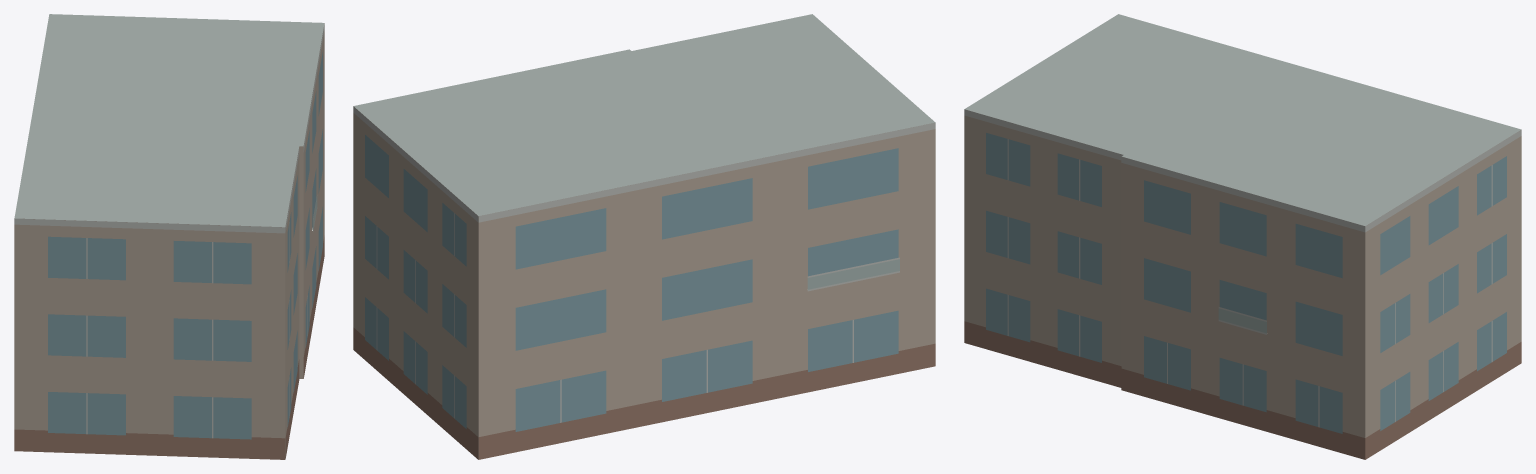
The model's file is survey-upis-32827279.glb.
3 views of the same model, side by side, from view 1: azimuth 30°, elevation 25°; view 2: azimuth 150°, elevation 25°; view 3: azimuth 270°, elevation 25° (orthographic). The views are drawn at different scales.
Visible parts, largest first — view 1: survey-upis-32827279.tmp; view 2: survey-upis-32827279.tmp; view 3: survey-upis-32827279.tmp.
Boxes of the visible parts, x1,y1,x2,y2 form: survey-upis-32827279.tmp: [14, 14, 324, 459]; survey-upis-32827279.tmp: [353, 14, 935, 459]; survey-upis-32827279.tmp: [964, 14, 1521, 459].
Bounding box in the file's own units: 17.83 × 9.15 × 19.79.
